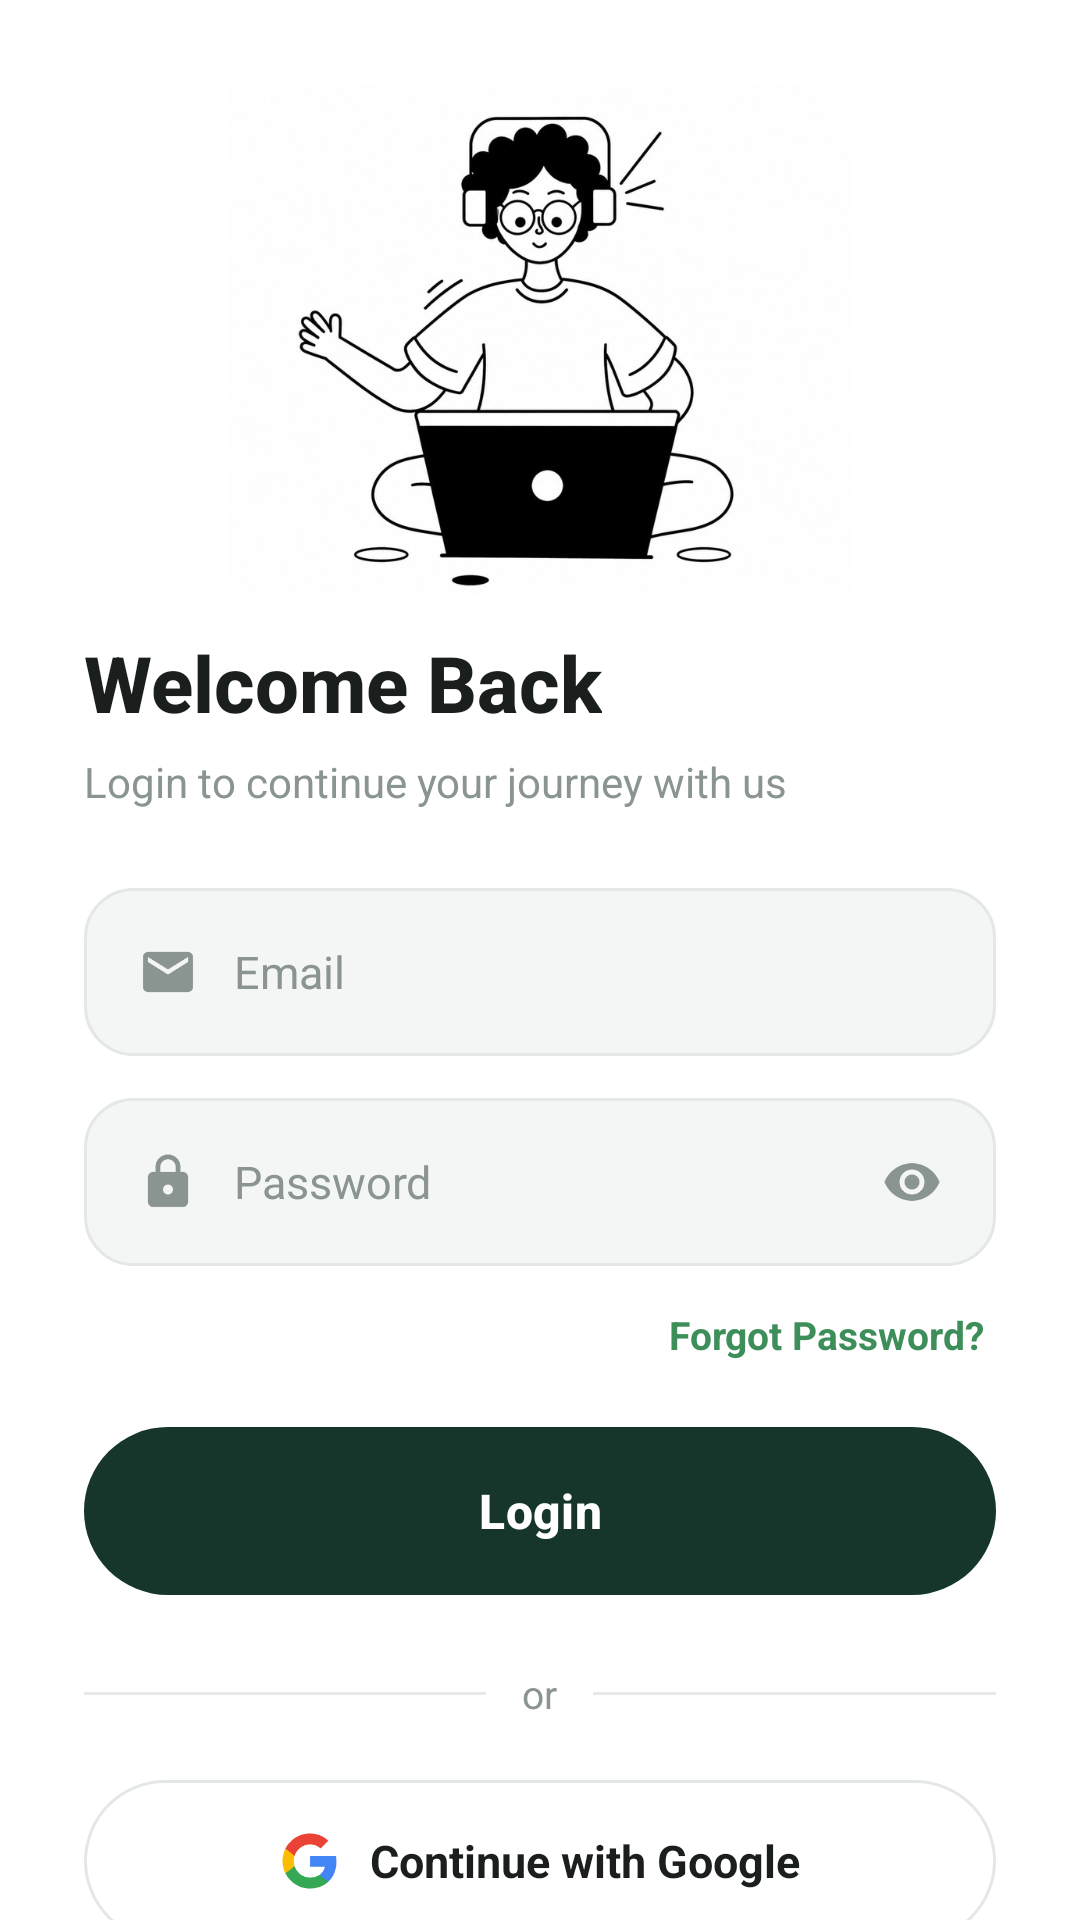

Screen size 1080 × 1920. Icon name, then its box in pixels as (x1, y1, x2, y2):
eye: (884, 1163, 940, 1201)
